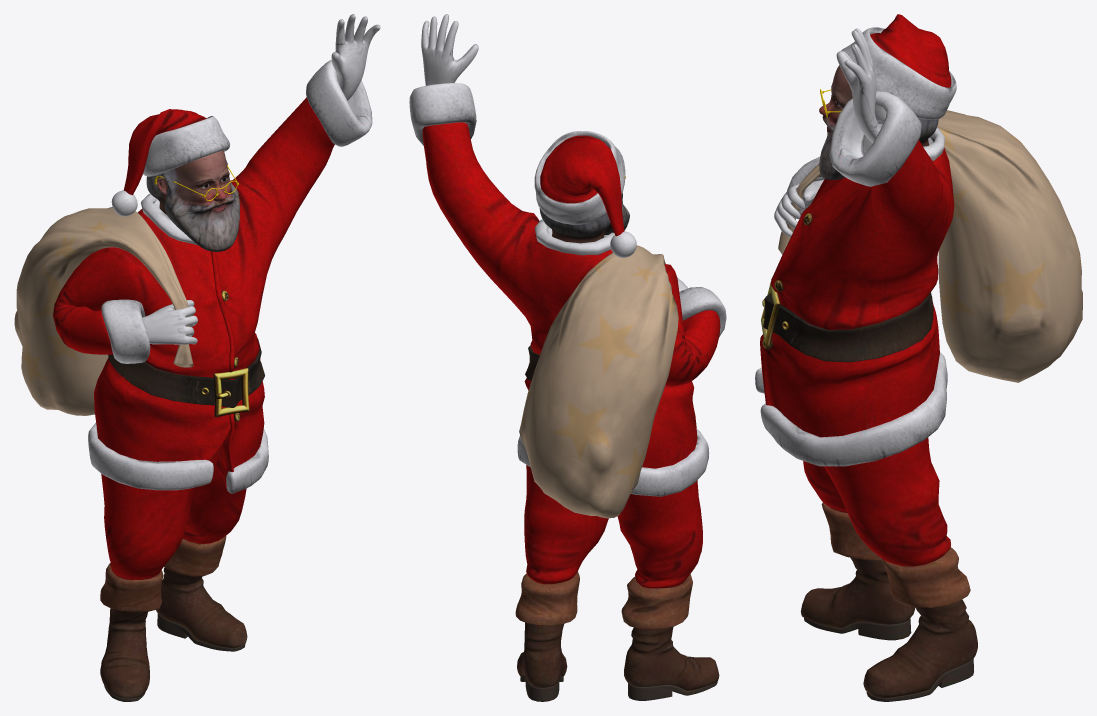
Rendered from Santa.gltf.
3 renders of one model, left to right at view 1: azimuth 30°, elevation 25°; view 2: azimuth 150°, elevation 25°; view 3: azimuth 270°, elevation 25°, orthographic. The views are drawn at different scales.
Visible parts, largest first — view 1: Santa.001; view 2: Santa.001; view 3: Santa.001.
Part boxes in pixels (x1,y1,x2,y2): Santa.001: (14, 14, 380, 701); Santa.001: (409, 14, 726, 701); Santa.001: (755, 14, 1082, 701).
Size of the model in its own units: 8.09 by 15.93 by 6.5.
6 materials, 5 textured.
